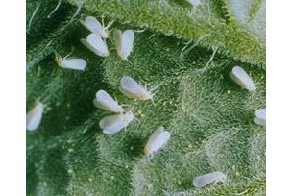whitefly: (118, 76, 157, 105), (142, 124, 170, 160), (97, 112, 140, 135), (92, 88, 127, 114), (78, 15, 114, 40), (228, 65, 258, 94), (78, 33, 111, 58), (113, 29, 135, 64), (25, 98, 47, 133), (193, 169, 230, 189), (52, 52, 88, 72)
